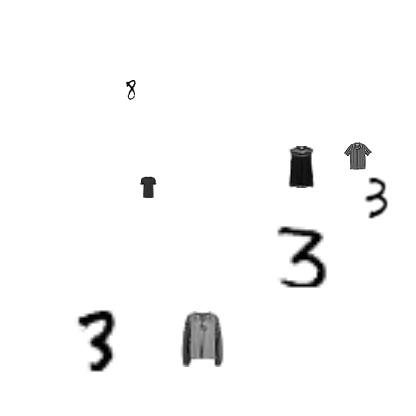3: (58, 293, 142, 377), (263, 212, 347, 296), (349, 168, 405, 224)
8: (117, 74, 145, 102)
Shirt: (173, 311, 229, 367), (280, 146, 322, 188), (344, 142, 372, 170)
T-shirt/top: (137, 176, 159, 198)
